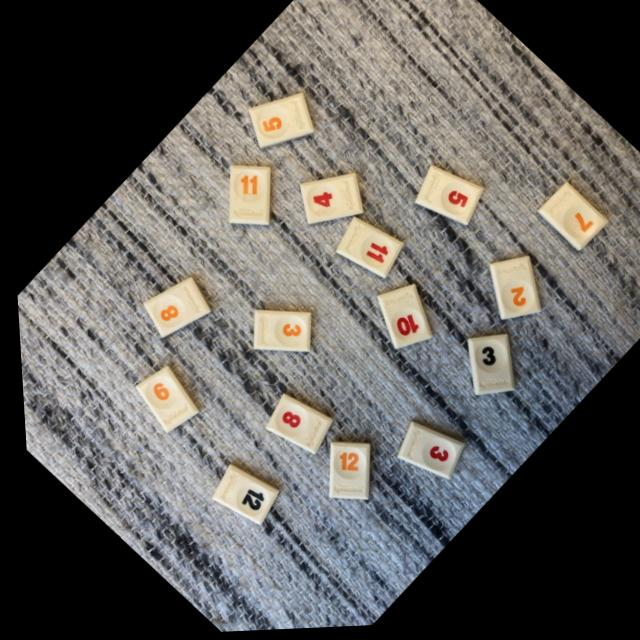black_12: (206, 465, 273, 527)
black_3: (463, 338, 509, 399)
orange_11: (226, 167, 268, 226)
orange_12: (323, 444, 364, 502)
orange_2: (486, 260, 537, 323)
orange_3: (249, 312, 307, 354)
orange_5: (248, 96, 312, 150)
orange_6: (131, 367, 194, 433)
orange_7: (535, 187, 606, 255)
orange_8: (140, 278, 207, 338)
red_10: (374, 288, 428, 352)
red_11: (333, 220, 401, 281)
red_3: (392, 425, 459, 482)
red_4: (299, 175, 361, 226)
red_5: (413, 169, 481, 228)
red_8: (261, 396, 327, 457)
